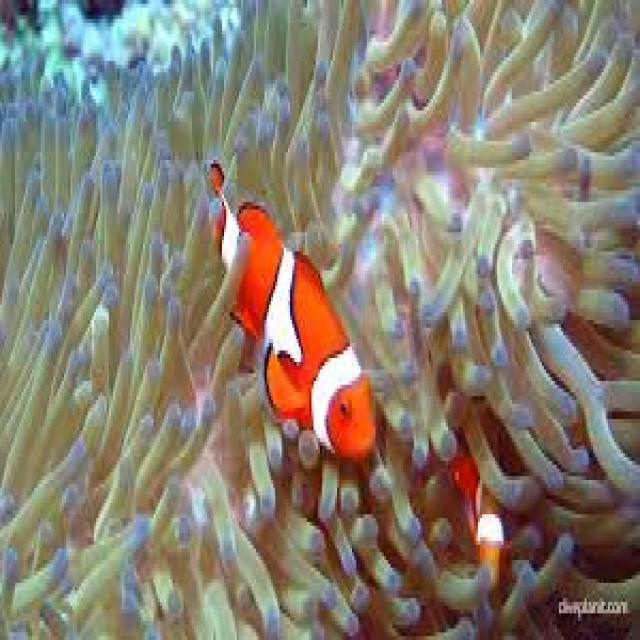ClownFish: (204, 163, 383, 464)
